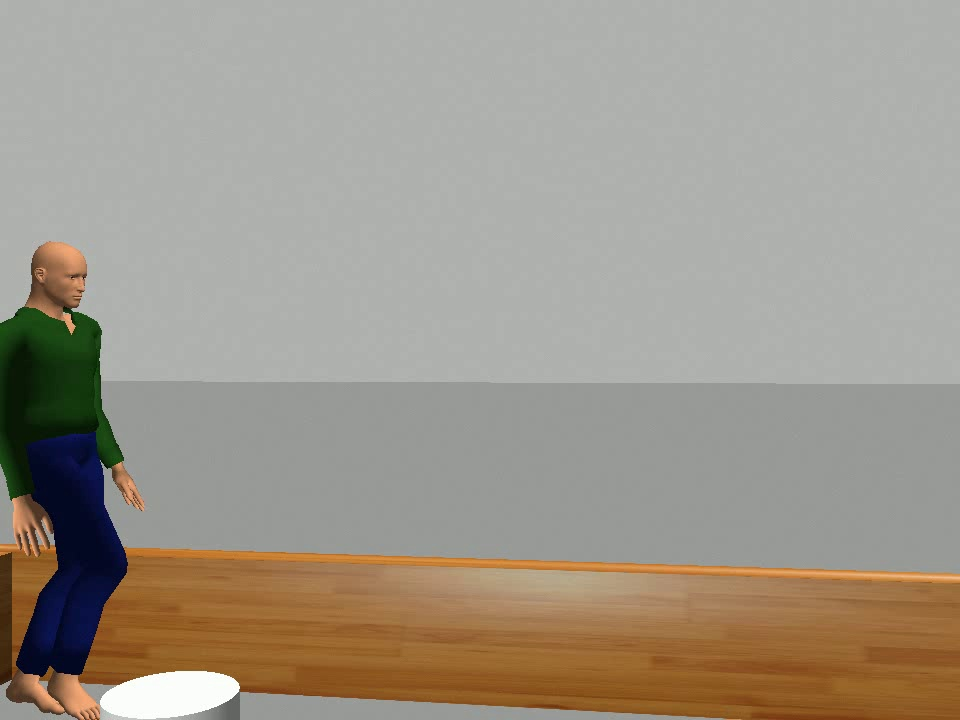person: (1, 238, 151, 720)
